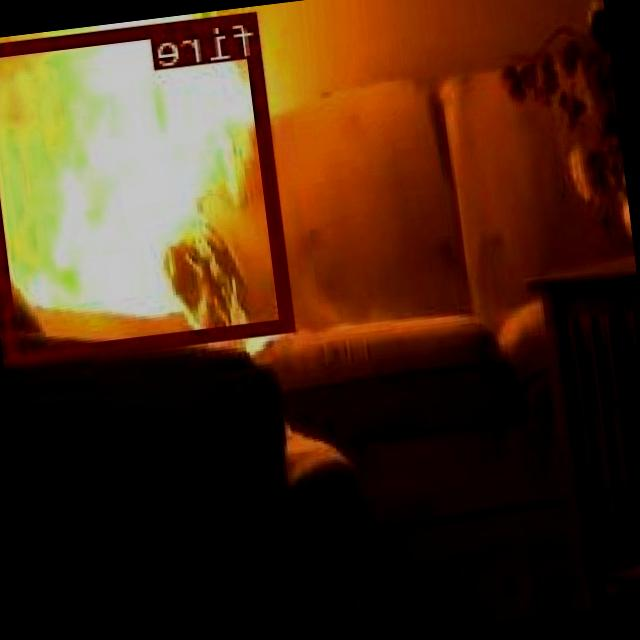fire: (0, 8, 297, 362)
